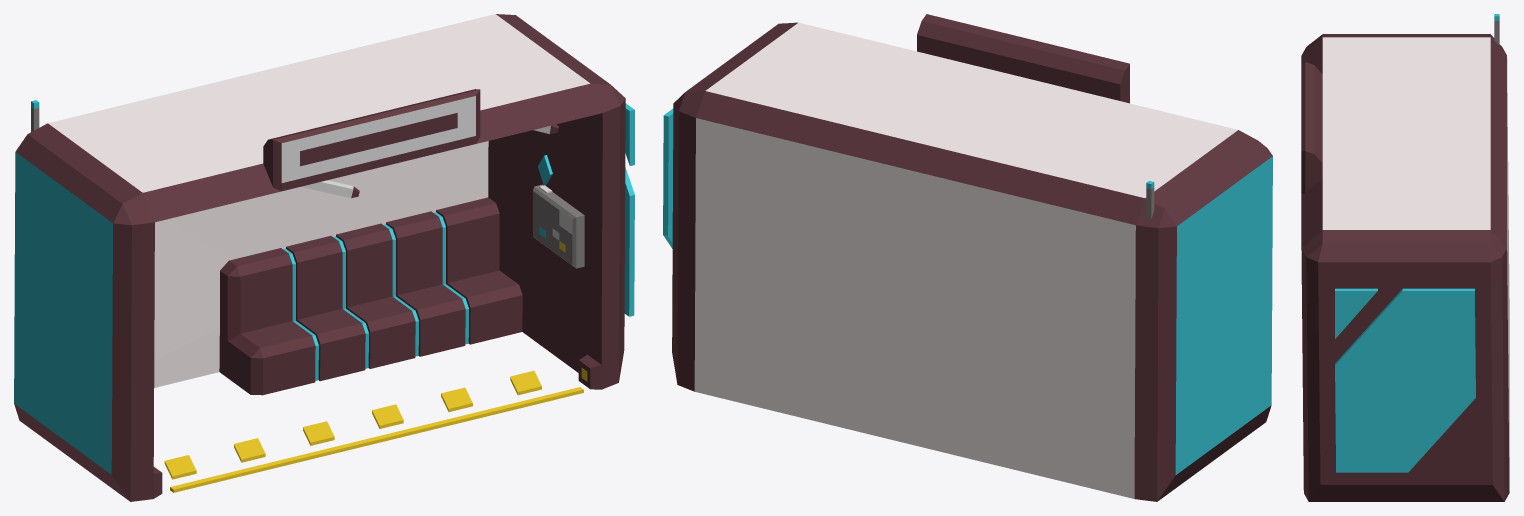
File: scifi-bus-stop.fbx
3 views of the same model, side by side, from view 1: azimuth 30°, elevation 25°; view 2: azimuth 150°, elevation 25°; view 3: azimuth 270°, elevation 25° (orthographic). The views are drawn at different scales.
Visible parts, largest first — view 1: scifi-bus-stop; view 2: scifi-bus-stop; view 3: scifi-bus-stop.
Boxes of the visible parts, <box> form: scifi-bus-stop: <box>14,14,634,501</box>; scifi-bus-stop: <box>663,14,1272,501</box>; scifi-bus-stop: <box>1301,14,1509,501</box>.
Size of the model in its own units: 5.12 by 3.03 by 1.97.
